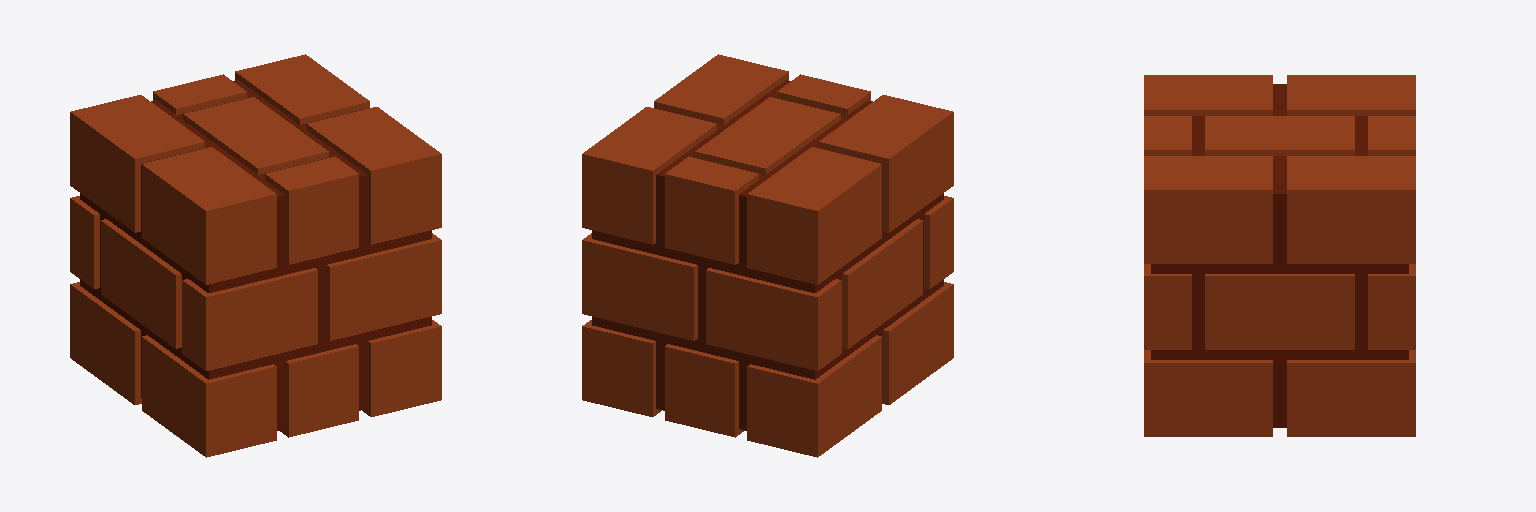
3 views of the same model, side by side, from view 1: azimuth 30°, elevation 25°; view 2: azimuth 150°, elevation 25°; view 3: azimuth 270°, elevation 25° (orthographic).
Parts seen in each view (by area): view 1: object 1; view 2: object 1; view 3: object 1.
Part boxes in pixels (x1,y1,x2,y2): object 1: (70, 54, 441, 457); object 1: (582, 54, 953, 457); object 1: (1144, 75, 1415, 436).
Bounding box in the file's own units: 4 × 4 × 4.
Materials: 1 (1 with a texture image).